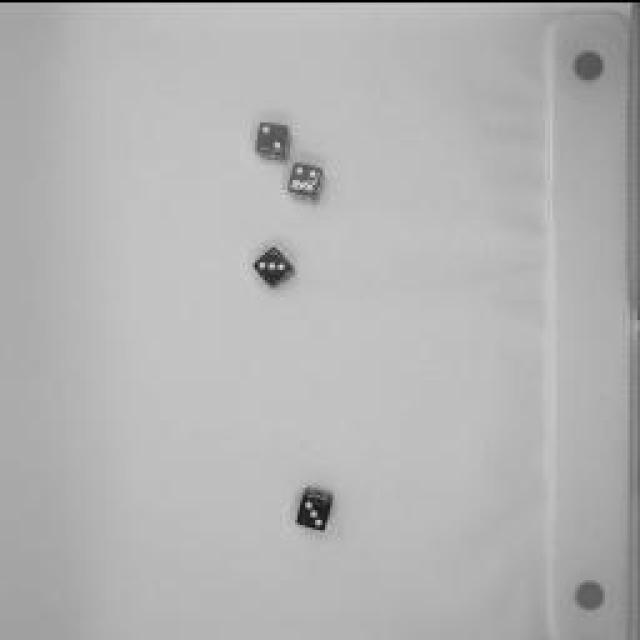dice_2: (252, 114, 296, 166)
dice_3: (249, 241, 301, 291), (290, 479, 338, 531)
dice_4: (281, 158, 334, 202)
